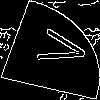V: (24, 25, 91, 71)
